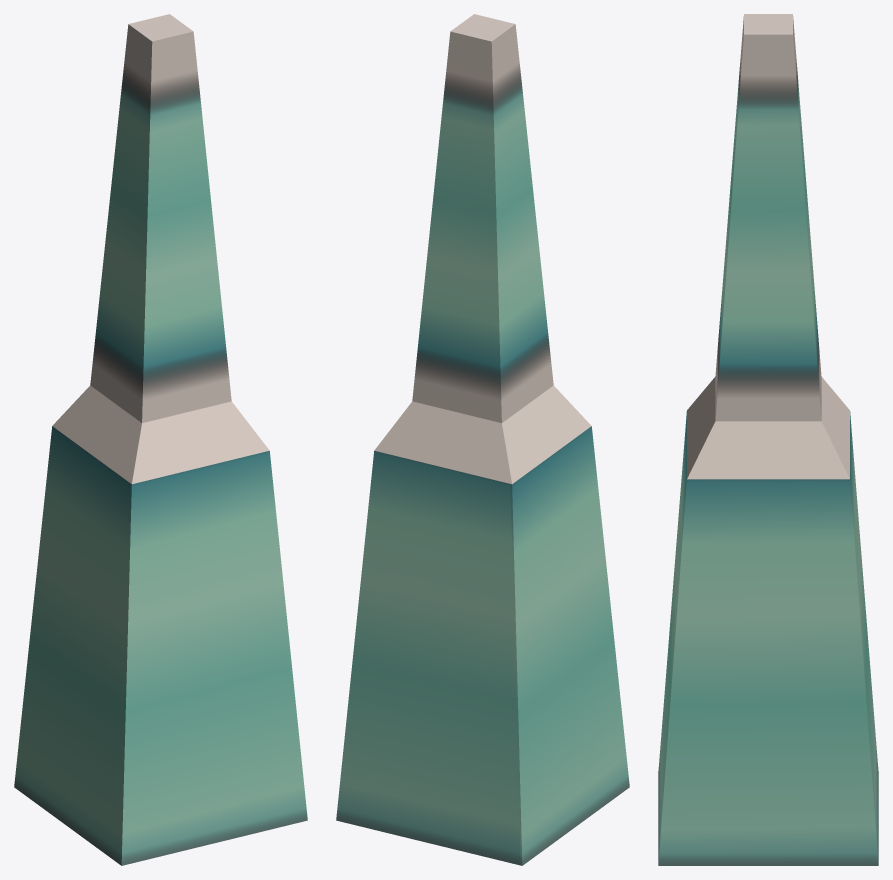
File: Tall_B_9.fbx
3 views of the same model, side by side, from view 1: azimuth 30°, elevation 25°; view 2: azimuth 150°, elevation 25°; view 3: azimuth 270°, elevation 25° (orthographic). The views are drawn at different scales.
Visible parts, largest first — view 1: Tall_B_9; view 2: Tall_B_9; view 3: Tall_B_9.
Boxes of the visible parts, <box> form: Tall_B_9: <box>14,14,307,865</box>; Tall_B_9: <box>336,14,629,865</box>; Tall_B_9: <box>658,14,878,865</box>.
Size of the model in its own units: 3000 by 11947 by 3000.
